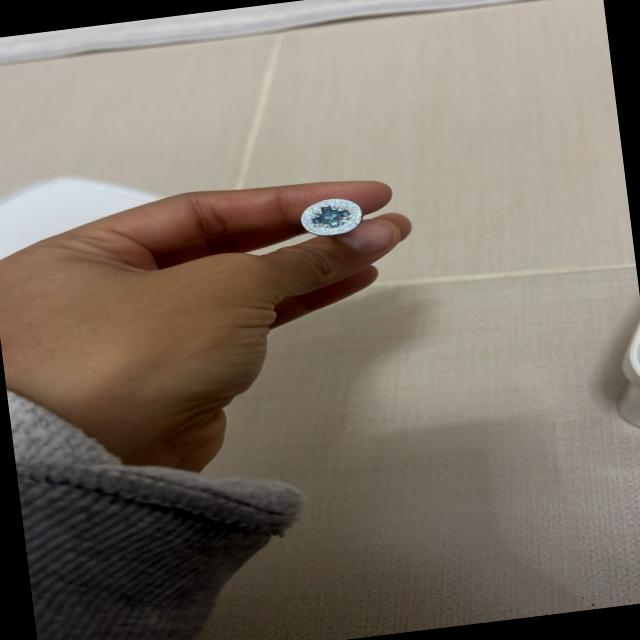Pozidriv: (291, 194, 377, 239)
